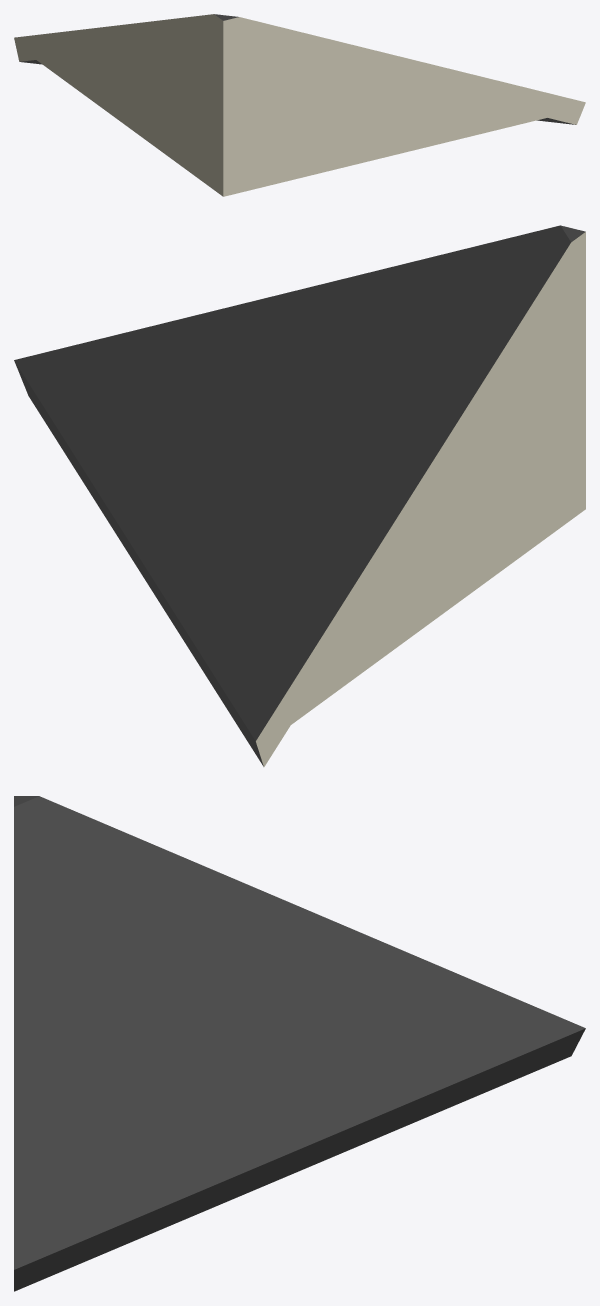
The model's file is modularBuildings_043.fbx.
3 renders of one model, top to bottom at view 1: azimuth 30°, elevation 25°; view 2: azimuth 150°, elevation 25°; view 3: azimuth 270°, elevation 25°, orthographic. The views are drawn at different scales.
Visible parts, largest first — view 1: Mesh1_Group1 Model; view 2: Mesh1_Group1 Model; view 3: Mesh1_Group1 Model.
Boxes of the visible parts, bbox=[...] form: Mesh1_Group1 Model: bbox=[14, 14, 585, 196]; Mesh1_Group1 Model: bbox=[14, 225, 585, 766]; Mesh1_Group1 Model: bbox=[14, 796, 585, 1291].
Bounding box in the file's own units: 1.12 × 0.5612 × 1.12.
